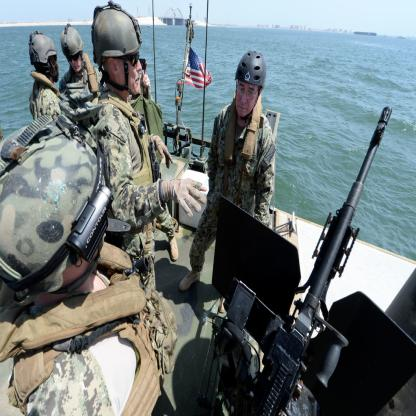Helmet: (0, 113, 133, 306), (86, 12, 141, 91), (30, 30, 58, 84), (234, 50, 266, 96), (61, 26, 86, 62)
